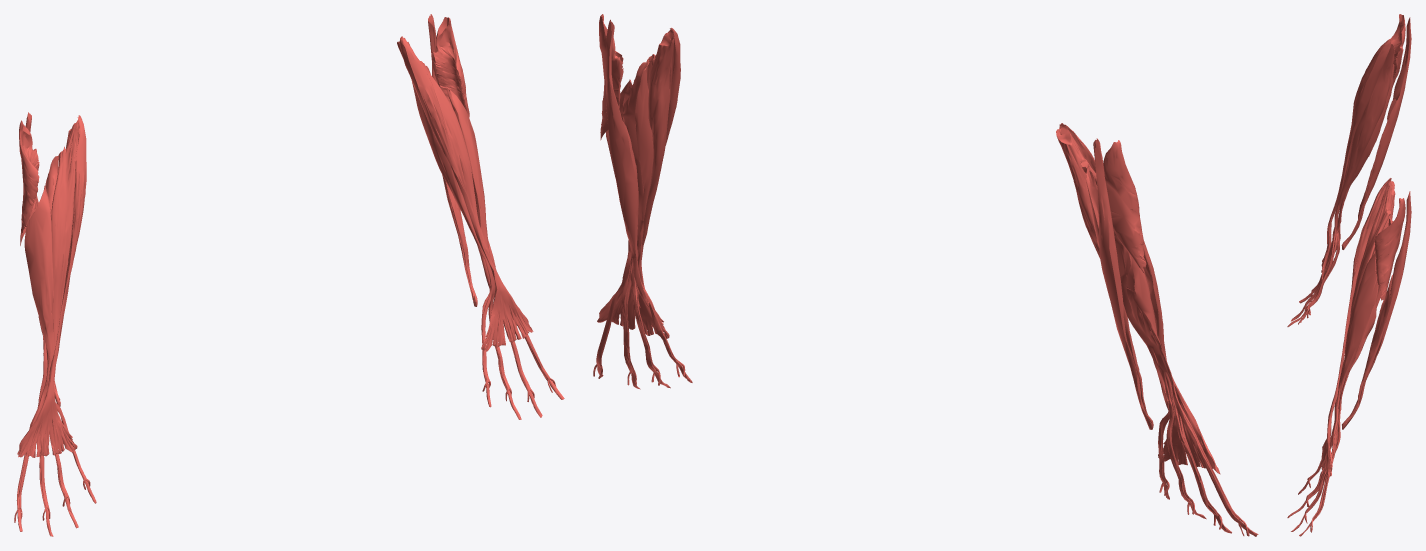
The model's file is supplement-wrist-hand-muscle.glb.
3 renders of one model, left to right at view 1: azimuth 30°, elevation 25°; view 2: azimuth 150°, elevation 25°; view 3: azimuth 270°, elevation 25°, orthographic. The views are drawn at different scales.
Parts seen in each view (by area): view 1: wrist-hand:finger-flexors:isa:FJ1475, wrist-hand:palmaris-longus:isa:FJ1502M, wrist-hand:finger-flexors:isa:FJ1475M, wrist-hand:palmaris-longus:isa:FJ1502, wrist-hand:finger-flexors:isa:FJ1499, wrist-hand:supinator:isa:FJ1505M, wrist-hand:finger-flexors:isa:FJ1499M, wrist-hand:finger-flexors:isa:FJ1497, wrist-hand:supinator:isa:FJ1505, wrist-hand:finger-flexors:isa:FJ1497M; view 2: wrist-hand:finger-flexors:isa:FJ1497, wrist-hand:finger-flexors:isa:FJ1497M, wrist-hand:finger-flexors:isa:FJ1475M, wrist-hand:extensor-carpi-ulnaris:isa:FJ1472M, wrist-hand:extensor-carpi-ulnaris:isa:FJ1472, wrist-hand:supinator:isa:FJ1505, wrist-hand:finger-flexors:isa:FJ1475, wrist-hand:palmaris-longus:isa:FJ1502M, wrist-hand:palmaris-longus:isa:FJ1502, wrist-hand:supinator:isa:FJ1505M, wrist-hand:finger-flexors:isa:FJ1499; view 3: wrist-hand:finger-flexors:isa:FJ1475, wrist-hand:finger-flexors:isa:FJ1475M, wrist-hand:finger-flexors:isa:FJ1499M, wrist-hand:palmaris-longus:isa:FJ1502, wrist-hand:palmaris-longus:isa:FJ1502M, wrist-hand:extensor-carpi-ulnaris:isa:FJ1472, wrist-hand:supinator:isa:FJ1505M, wrist-hand:finger-flexors:isa:FJ1497, wrist-hand:finger-flexors:isa:FJ1497M, wrist-hand:extensor-carpi-ulnaris:isa:FJ1472M, wrist-hand:extensor-carpi-ulnaris:isa:FJ1517M, wrist-hand:supinator:isa:FJ1505 (+1 smaller).
Part boxes in pixels (<box>): wrist-hand:finger-flexors:isa:FJ1475: <box>14,119,90,522</box>; wrist-hand:palmaris-longus:isa:FJ1502M: <box>399,36,533,351</box>; wrist-hand:finger-flexors:isa:FJ1475M: <box>397,37,556,401</box>; wrist-hand:palmaris-longus:isa:FJ1502: <box>17,115,86,457</box>; wrist-hand:finger-flexors:isa:FJ1499: <box>24,185,53,372</box>; wrist-hand:supinator:isa:FJ1505M: <box>431,17,469,117</box>; wrist-hand:finger-flexors:isa:FJ1499M: <box>445,87,489,252</box>; wrist-hand:finger-flexors:isa:FJ1497: <box>16,154,96,536</box>; wrist-hand:supinator:isa:FJ1505: <box>19,120,39,245</box>; wrist-hand:finger-flexors:isa:FJ1497M: <box>426,66,564,419</box>; wrist-hand:finger-flexors:isa:FJ1497: <box>1086,167,1258,536</box>; wrist-hand:finger-flexors:isa:FJ1497M: <box>596,59,692,389</box>; wrist-hand:finger-flexors:isa:FJ1475M: <box>593,29,685,385</box>; wrist-hand:extensor-carpi-ulnaris:isa:FJ1472M: <box>605,19,649,306</box>; wrist-hand:extensor-carpi-ulnaris:isa:FJ1472: <box>1093,138,1153,429</box>; wrist-hand:supinator:isa:FJ1505: <box>1103,140,1146,273</box>; wrist-hand:finger-flexors:isa:FJ1475: <box>1056,124,1249,536</box>; wrist-hand:palmaris-longus:isa:FJ1502M: <box>597,27,680,338</box>; wrist-hand:palmaris-longus:isa:FJ1502: <box>1059,123,1220,474</box>; wrist-hand:supinator:isa:FJ1505M: <box>599,14,623,140</box>; wrist-hand:finger-flexors:isa:FJ1499: <box>1143,240,1166,360</box>; wrist-hand:finger-flexors:isa:FJ1475: <box>1304,39,1395,318</box>; wrist-hand:finger-flexors:isa:FJ1475M: <box>1304,179,1395,532</box>; wrist-hand:finger-flexors:isa:FJ1499M: <box>1339,253,1378,401</box>; wrist-hand:palmaris-longus:isa:FJ1502: <box>1321,38,1391,281</box>; wrist-hand:palmaris-longus:isa:FJ1502M: <box>1321,178,1391,477</box>; wrist-hand:extensor-carpi-ulnaris:isa:FJ1472: <box>1341,17,1411,249</box>; wrist-hand:supinator:isa:FJ1505M: <box>1374,198,1405,304</box>; wrist-hand:finger-flexors:isa:FJ1497: <box>1287,64,1394,326</box>; wrist-hand:finger-flexors:isa:FJ1497M: <box>1287,215,1393,536</box>; wrist-hand:extensor-carpi-ulnaris:isa:FJ1472M: <box>1342,191,1411,429</box>; wrist-hand:extensor-carpi-ulnaris:isa:FJ1517M: <box>1347,275,1392,422</box>; wrist-hand:supinator:isa:FJ1505: <box>1391,14,1405,87</box>.
Size of the model in its own units: 0.6139 by 0.3933 by 0.1372.
